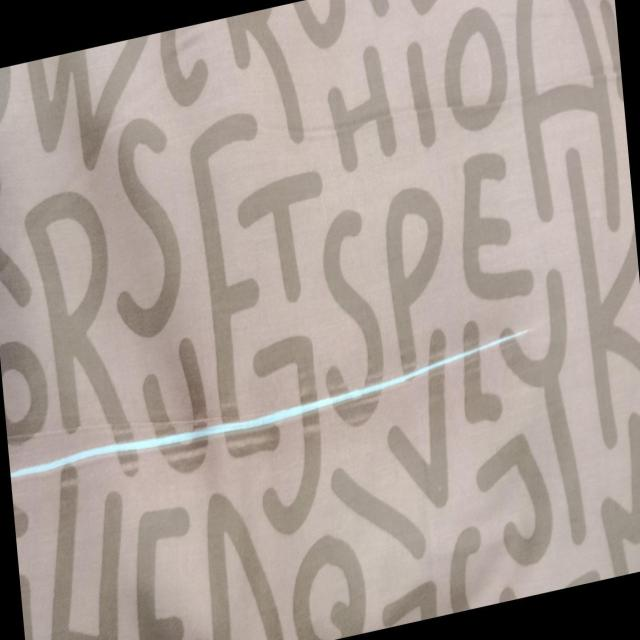selvet: (8, 329, 533, 490)
